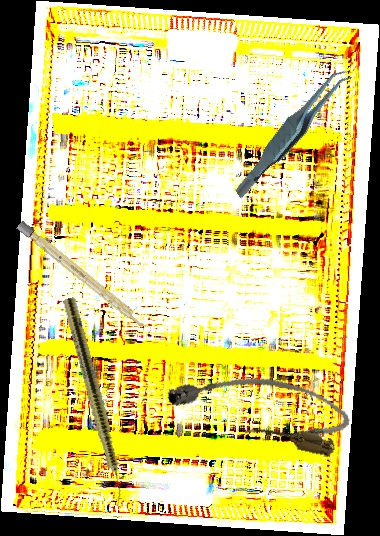Cannula: (162, 353, 355, 461)
Handpiece: (59, 296, 132, 509)
Scalpel Handle: (16, 220, 150, 332)
Tissue Forceps: (213, 66, 372, 199)
